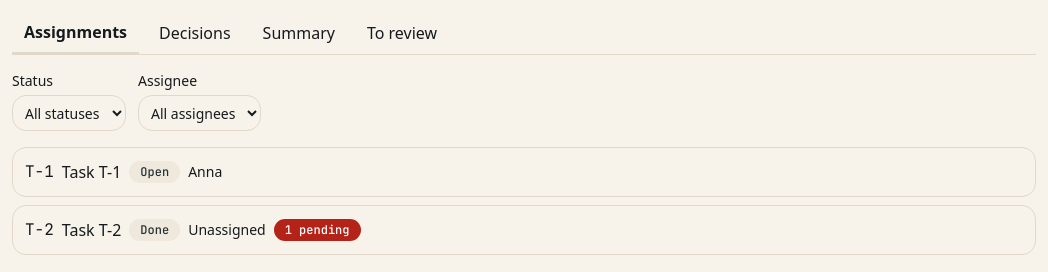
Test: tasks tab: filters › lists tasks and sends status and assignee filters to the API
Check: the button with test id "task-row-T-1" is shown, box x1=12 y1=147 x2=1036 y2=197
Check: the button with test id "task-row-T-2" is shown, box x1=12 y1=205 x2=1036 y2=255
Step 1. Select "Open" in the dropdown with test id "filter-status" → point(69, 113), box x1=12 y1=95 x2=126 y2=131
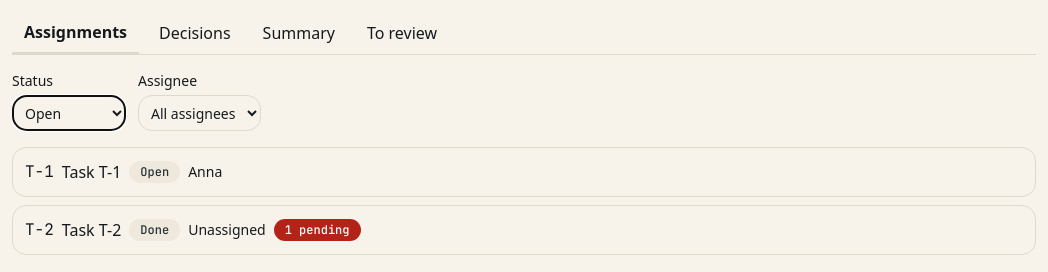
Step 2. Select "Anna" in the dropdown with test id "filter-assignee" → point(200, 113), box x1=138 y1=95 x2=261 y2=131
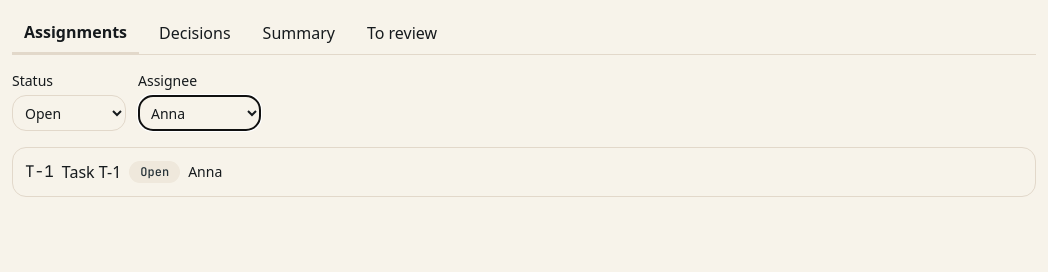
Check: the button with test id "task-row-T-2" is gone
